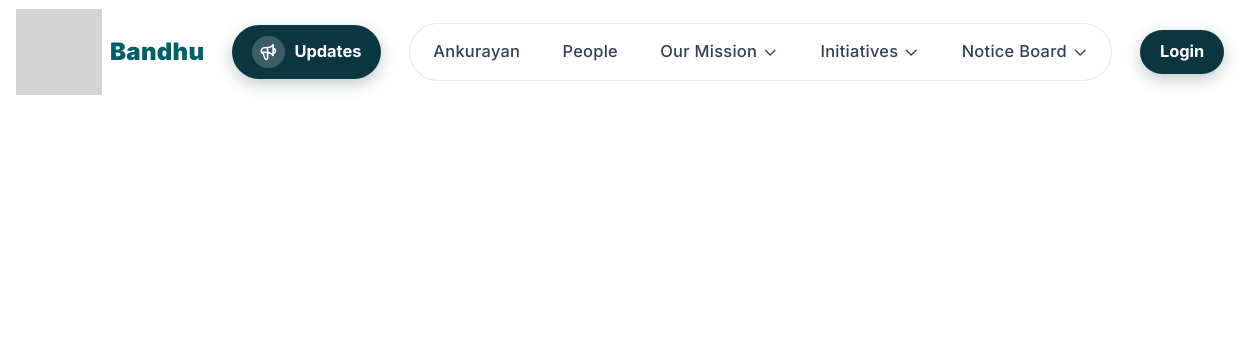
Test: Navbar desktop menu › shows Odisha Satabdi first for admins even when flag off
What coordinates should you click on to do the following:
click the button "Initiatives"
I would click on:
 (870, 52)
Its box is left=813, top=33, right=926, bottom=71.
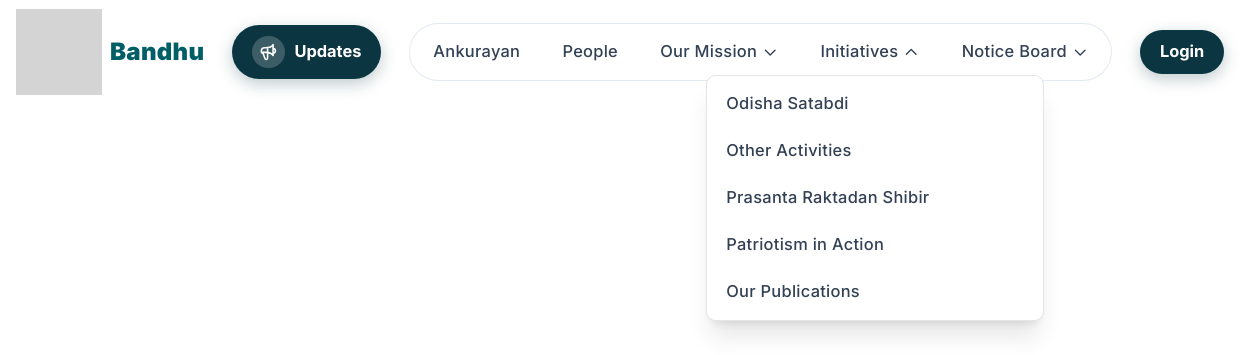
Result: the link "Odisha Satabdi" is shown at left=726, top=93, right=849, bottom=113
